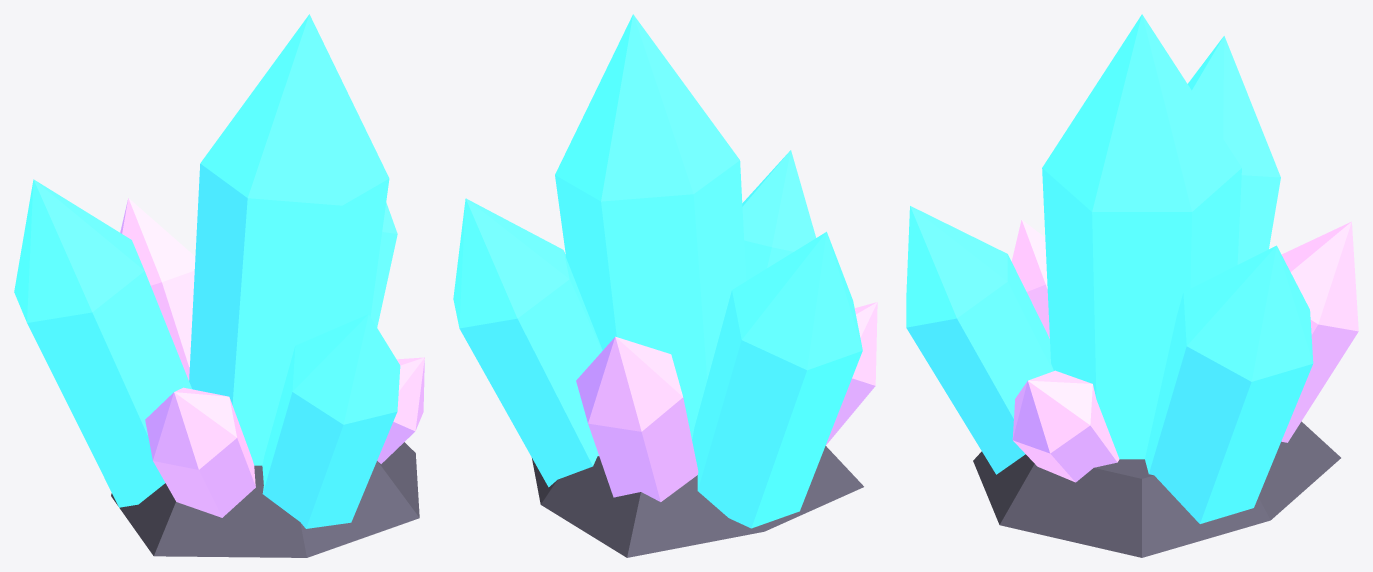
File: mana_gems.glb
3 renders of one model, left to right at view 1: azimuth 30°, elevation 25°; view 2: azimuth 150°, elevation 25°; view 3: azimuth 270°, elevation 25°, orthographic. The views are drawn at different scales.
Visible parts, largest first — view 1: Crystal.0, Crystal.160, Crystal.270, Rock, Crystal.215, Crystal.100, Crystal.320, Crystal.35; view 2: Crystal.0, Crystal.160, Crystal.35, Crystal.100, Rock, Crystal.270, Crystal.215; view 3: Crystal.0, Crystal.35, Crystal.270, Rock, Crystal.160, Crystal.320, Crystal.100, Crystal.215.
Boxes of the visible parts, x1,y1,x2,y2 form: Crystal.0: (189,14,389,465); Crystal.160: (14,179,191,507); Crystal.270: (262,314,400,528); Rock: (111,442,419,557); Crystal.215: (145,387,255,517); Crystal.100: (120,198,195,380); Crystal.320: (377,357,424,463); Crystal.35: (370,202,397,327); Crystal.0: (555,14,746,440); Crystal.160: (692,231,862,528); Crystal.35: (453,198,602,487); Crystal.100: (576,336,698,501); Rock: (532,446,863,557); Crystal.270: (742,150,815,280); Crystal.215: (825,302,877,445); Crystal.0: (1042,14,1241,459); Crystal.35: (1145,245,1313,523); Crystal.270: (906,206,1053,474); Rock: (973,421,1340,557); Crystal.160: (1188,36,1280,264); Crystal.320: (1012,370,1119,482); Crystal.100: (1281,221,1358,442); Crystal.215: (1011,220,1049,338).
Bounding box in the file's own units: 2.13 × 2.43 × 2.04.
